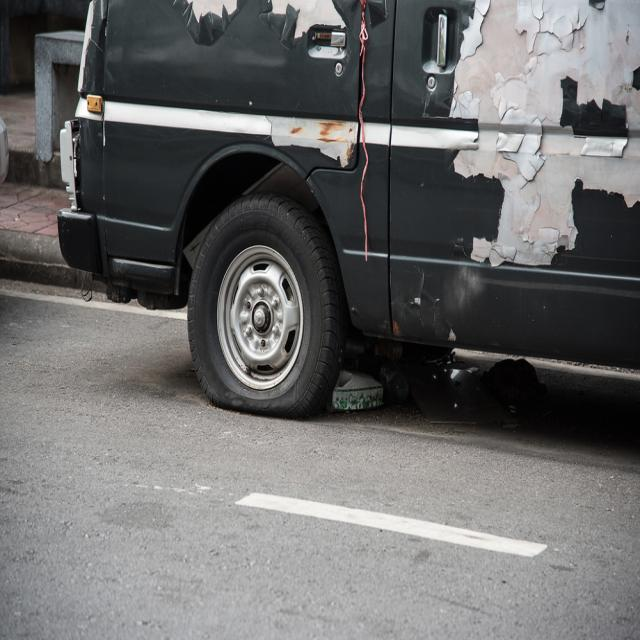tire flat: (187, 195, 347, 419)
